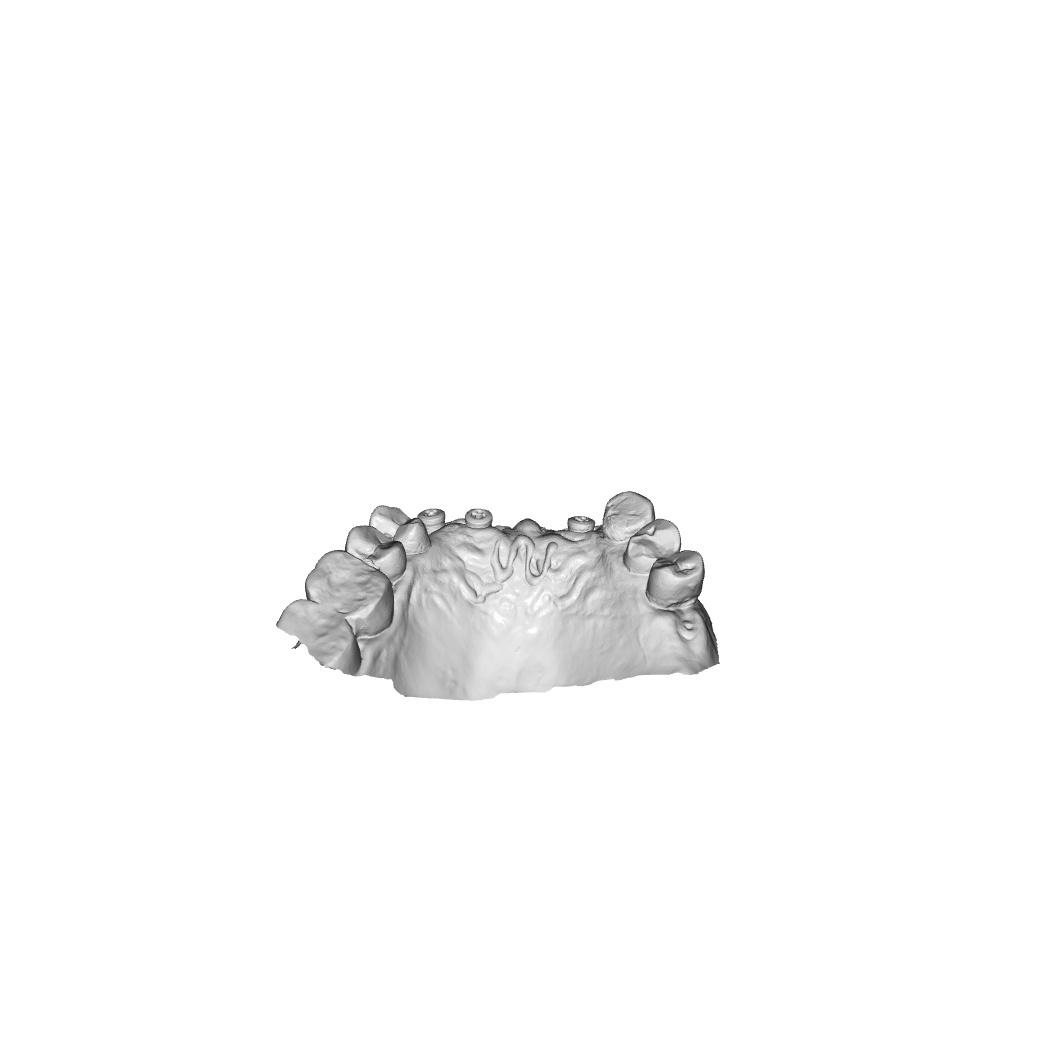canine: (600, 489, 657, 541)
implant: (416, 506, 447, 537)
implant_plus: (464, 505, 494, 531), (566, 514, 597, 534)
molar: (304, 548, 395, 637), (276, 597, 364, 677)
premolar: (645, 549, 707, 610), (344, 524, 408, 582), (368, 503, 432, 557), (623, 517, 682, 574)
